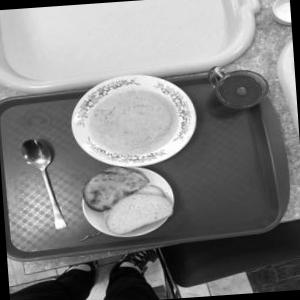bread: (96, 176, 179, 240)
cheese_sandwich: (68, 151, 152, 217)
coffee: (208, 56, 274, 140)
porridge: (66, 72, 204, 172)
